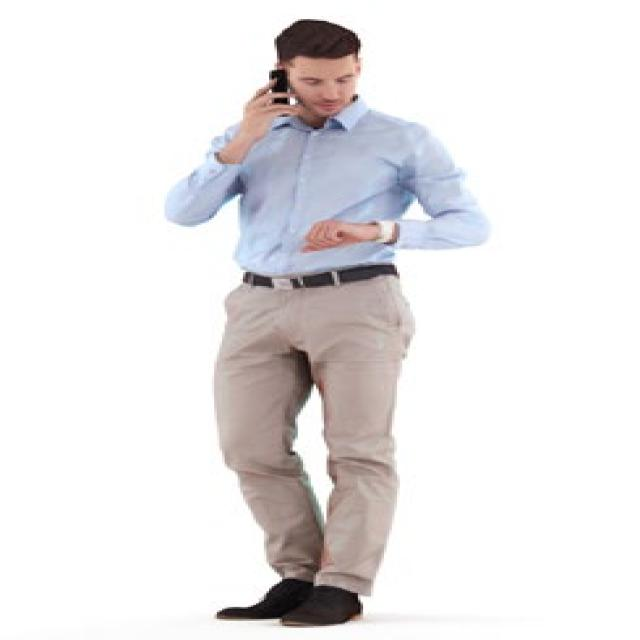standing: (160, 17, 502, 630)
